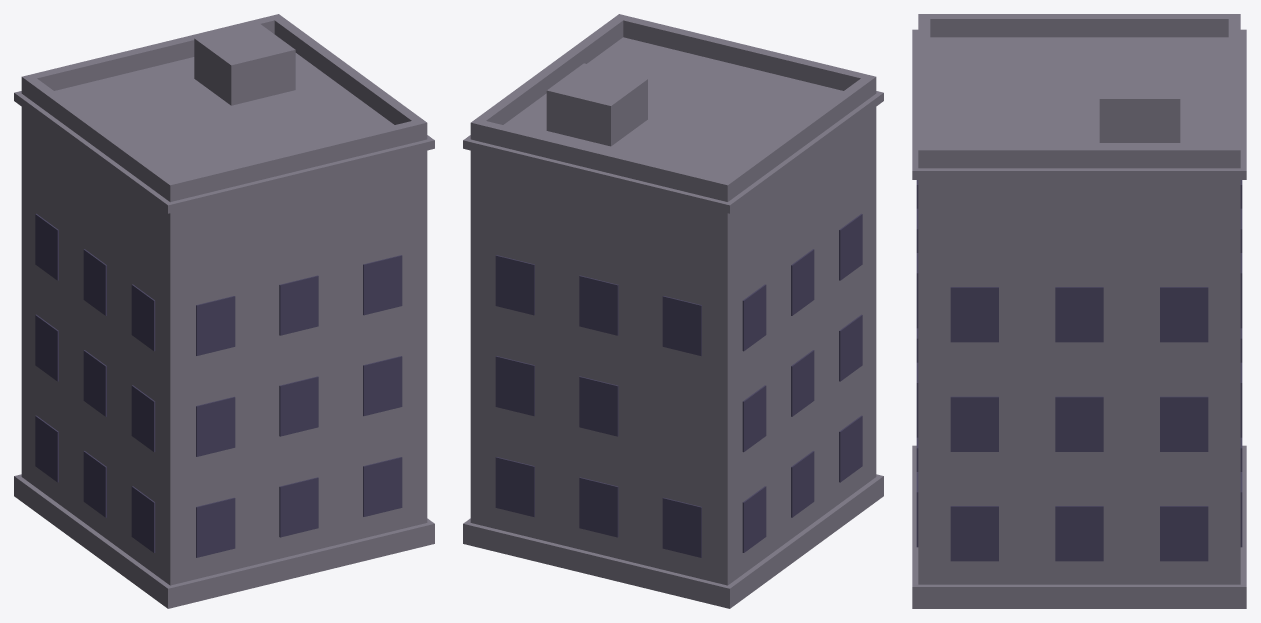
Rendered from DistantBuilding12m.glb.
The picture shows the model from 3 angles, left to right: view 1: azimuth 30°, elevation 25°; view 2: azimuth 150°, elevation 25°; view 3: azimuth 270°, elevation 25°; orthographic projection. The views are drawn at different scales.
Visible parts, largest first — view 1: mass, window (×18), cornice, parapet (×4), plinth, roof-box; view 2: mass, window (×17), cornice, parapet (×4), plinth, roof-box; view 3: mass, cornice, window (×9), parapet (×4), plinth, roof-box.
Part boxes in pixels (x1,y1,x2,y2): mass: (21,53,427,585); window (×18): (35,213,402,557); cornice: (14,53,434,213); parapet (×4): (21,14,427,201); plinth: (14,474,434,608); roof-box: (194,22,295,105); mass: (470,37,876,585); window (×17): (495,213,862,557); cornice: (463,37,883,213); parapet (×4): (470,14,876,201); plinth: (463,474,883,608); roof-box: (546,63,647,146); mass: (918,37,1240,584); cornice: (912,29,1246,179); window (×9): (950,287,1208,561); parapet (×4): (918,14,1240,168); plinth: (912,445,1246,608); roof-box: (1099,65,1180,142).
Bounding box in the file's own units: 8.3 × 13.2 × 8.3.
